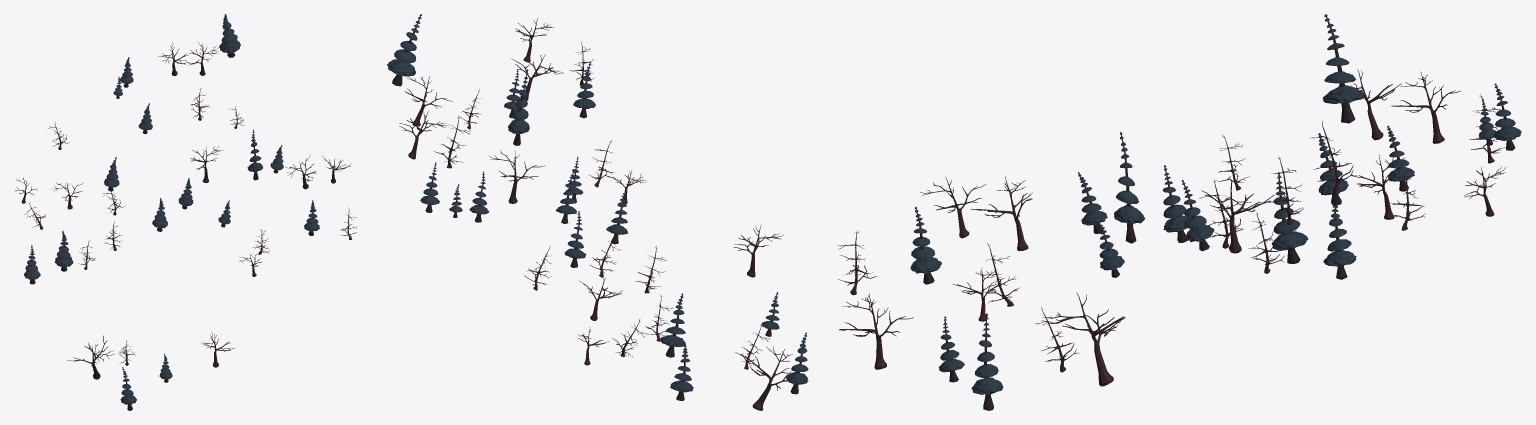
File: forest.glb
The picture shows the model from 3 angles, left to right: view 1: azimuth 30°, elevation 25°; view 2: azimuth 150°, elevation 25°; view 3: azimuth 270°, elevation 25°; orthographic projection. The views are drawn at different scales.
Parts seen in each view (by area): view 1: tree2.011, tree2.005, tree3.001, tree2.013, tree2.006, tree2; view 2: tree2.011, tree2, tree2.005, tree3.001, tree2.013, tree2.006, tree2.012, tree2.004, tree2.007, tree2.003, tree3, tree3.002 (+2 smaller); view 3: tree2.011, tree2.005, tree2, tree2.013, tree3.001, tree2.006, tree2.012, tree2.004, tree2.003, tree2.007, tree2.008, tree3.002 (+7 smaller).
Part boxes in pixels (<box>): tree2.011: <box>219,14,240,57</box>; tree2.005: <box>54,231,73,271</box>; tree3.001: <box>67,335,114,379</box>; tree2.013: <box>120,367,136,410</box>; tree2.006: <box>24,245,40,284</box>; tree2: <box>247,129,263,180</box>; tree2.011: <box>387,14,421,86</box>; tree2: <box>508,69,529,145</box>; tree2.005: <box>660,293,685,357</box>; tree3.001: <box>742,346,798,410</box>; tree2.013: <box>786,332,808,394</box>; tree2.006: <box>670,343,693,400</box>; tree2.012: <box>573,61,595,118</box>; tree2.004: <box>606,188,628,244</box>; tree2.007: <box>564,211,586,267</box>; tree2.003: <box>556,169,576,223</box>; tree3: <box>489,150,544,203</box>; tree3.002: <box>733,224,783,277</box>; tree2.011: <box>1322,14,1365,123</box>; tree2.005: <box>1271,172,1308,263</box>; tree2: <box>1114,132,1145,243</box>; tree2.013: <box>971,313,1003,410</box>; tree3.001: <box>1043,292,1125,386</box>; tree2.006: <box>1323,205,1356,279</box>; tree2.012: <box>910,206,941,284</box>; tree2.004: <box>1162,165,1189,242</box>; tree2.003: <box>1181,180,1214,251</box>; tree2.007: <box>1318,133,1348,205</box>; tree2.008: <box>1387,125,1414,191</box>; tree3.002: <box>839,294,913,369</box>.
Bounding box in the file's own units: 80.22 × 91.34 × 99.23.
Materials: 1 (1 with a texture image).
